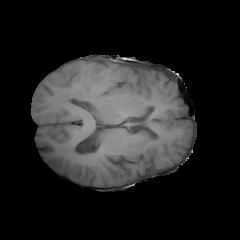glioma: (60, 70, 136, 105)
